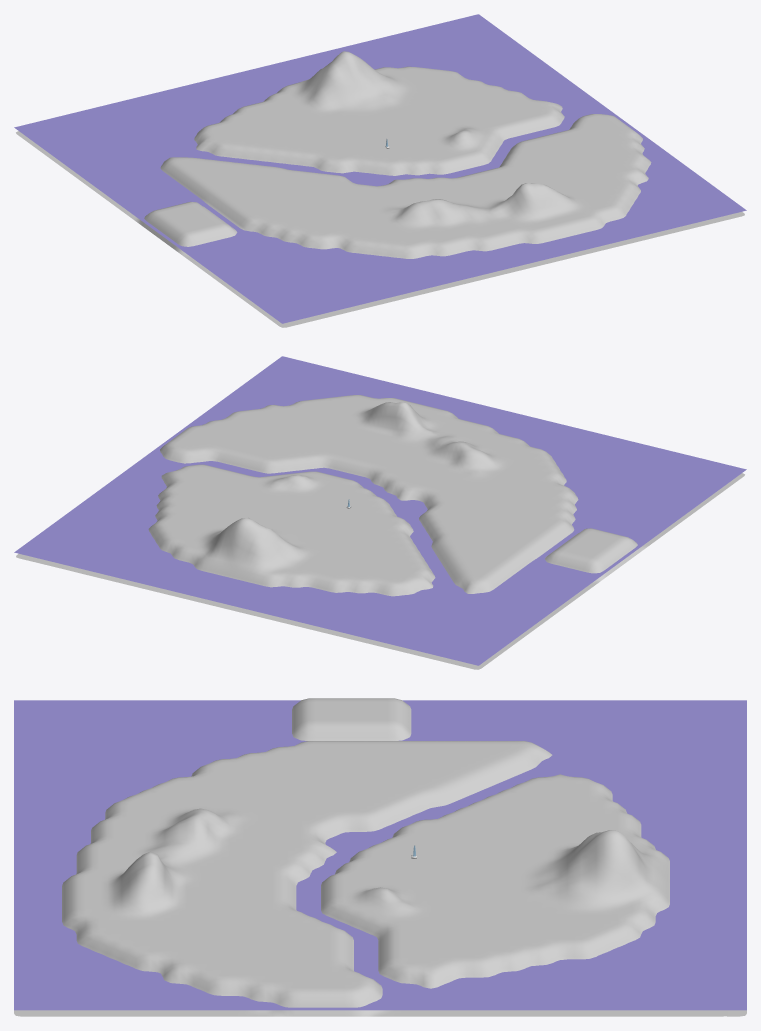
The model's file is seoul_v2.obj.
The picture shows the model from 3 angles, top to bottom: view 1: azimuth 30°, elevation 25°; view 2: azimuth 150°, elevation 25°; view 3: azimuth 270°, elevation 25°; orthographic projection. The views are drawn at different scales.
Visible parts, largest first — view 1: land_Plane.002, water_Plane; view 2: land_Plane.002, water_Plane; view 3: land_Plane.002, water_Plane.
Boxes of the visible parts, x1=… form: land_Plane.002: x1=16, y1=51, x2=744, y2=327; water_Plane: x1=14, y1=14, x2=746, y2=323; land_Plane.002: x1=16, y1=395, x2=744, y2=669; water_Plane: x1=14, y1=356, x2=746, y2=665; land_Plane.002: x1=14, y1=698, x2=746, y2=1016; water_Plane: x1=14, y1=700, x2=746, y2=1010.
Size of the model in its own units: 20 by 1.94 by 20.
